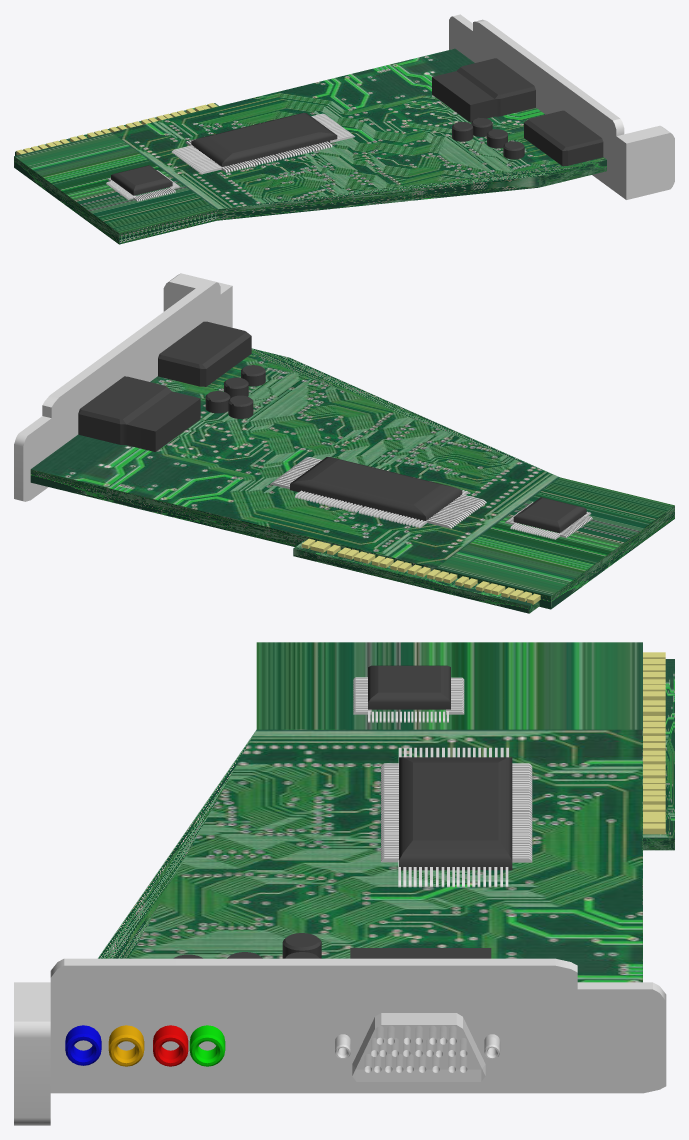
Rendered from adaptteer.fbx.
The picture shows the model from 3 angles, top to bottom: view 1: azimuth 30°, elevation 25°; view 2: azimuth 150°, elevation 25°; view 3: azimuth 270°, elevation 25°; orthographic projection. The views are drawn at different scales.
Parts seen in each view (by area): view 1: pCube111; view 2: pCube111; view 3: pCube111.
Part boxes in pixels (x1,y1,x2,y2): pCube111: (14,14,674,244); pCube111: (14,273,674,613); pCube111: (14,642,674,1125).
Bounding box in the file's own units: 24.91 × 3.38 × 15.84.
9 materials, 1 textured.
